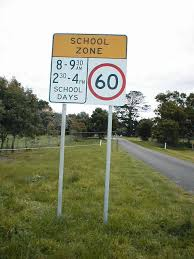sp60: (88, 58, 127, 104)
